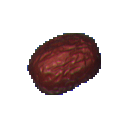gd: (9, 22, 115, 102)
